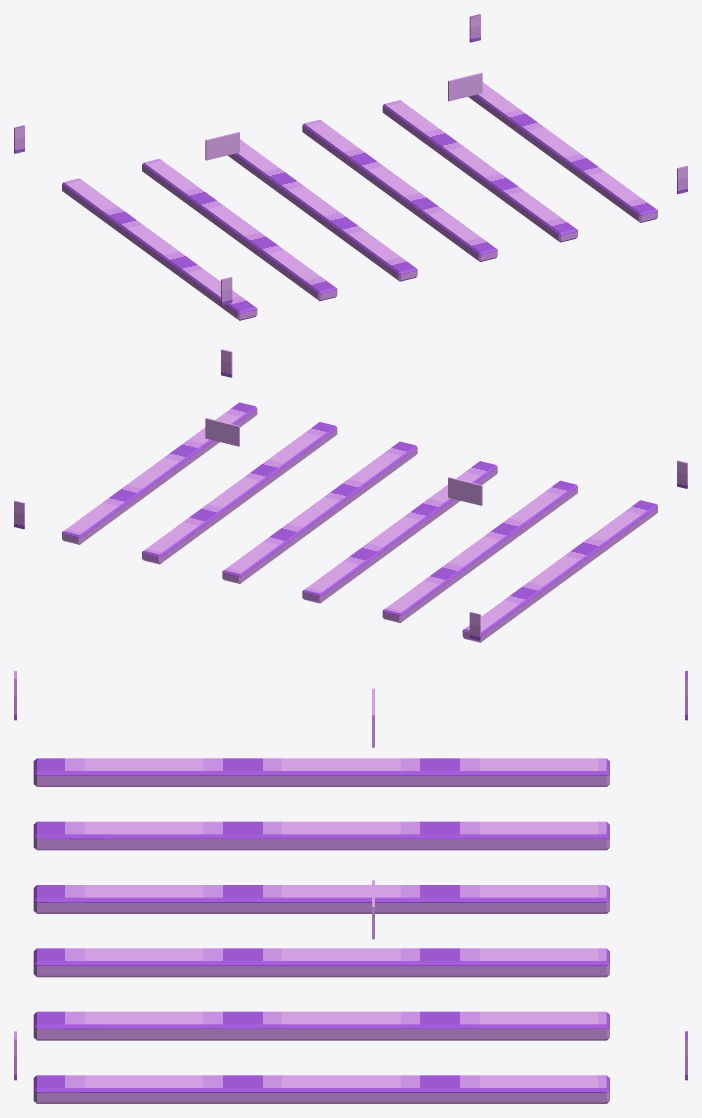
Rendered from uv_panel_6_emission.obj.
3 renders of one model, top to bottom at view 1: azimuth 30°, elevation 25°; view 2: azimuth 150°, elevation 25°; view 3: azimuth 270°, elevation 25°, orthographic. The views are drawn at different scales.
Parts seen in each view (by area): view 1: model; view 2: model; view 3: model.
Part boxes in pixels (x1,y1,x2,y2): model: (14, 14, 687, 320); model: (14, 349, 687, 642); model: (14, 671, 687, 1103).
Size of the model in its own units: 1.38 by 0.2488 by 1.07.
